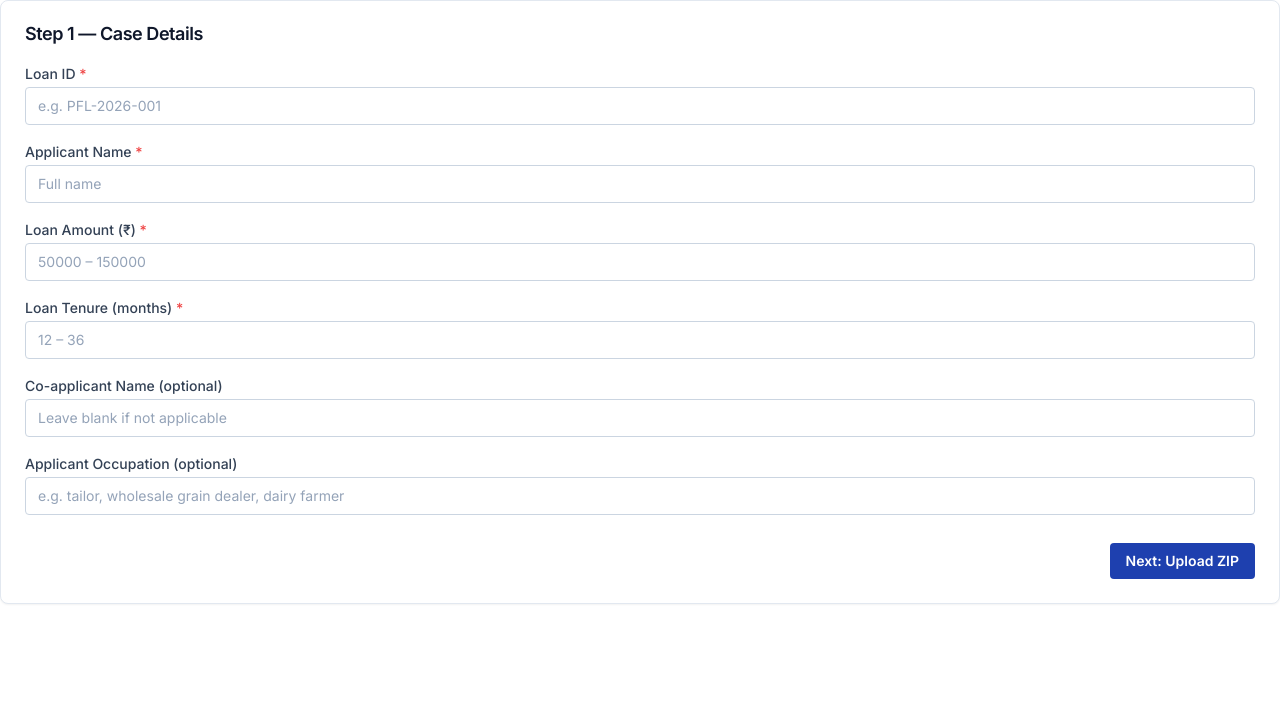
Step1Details › shows validation error for tenure above 36
Step 1. Type "PFL-001" into the field labelled "Loan ID *" → (640, 106), box [25,87,1255,125]
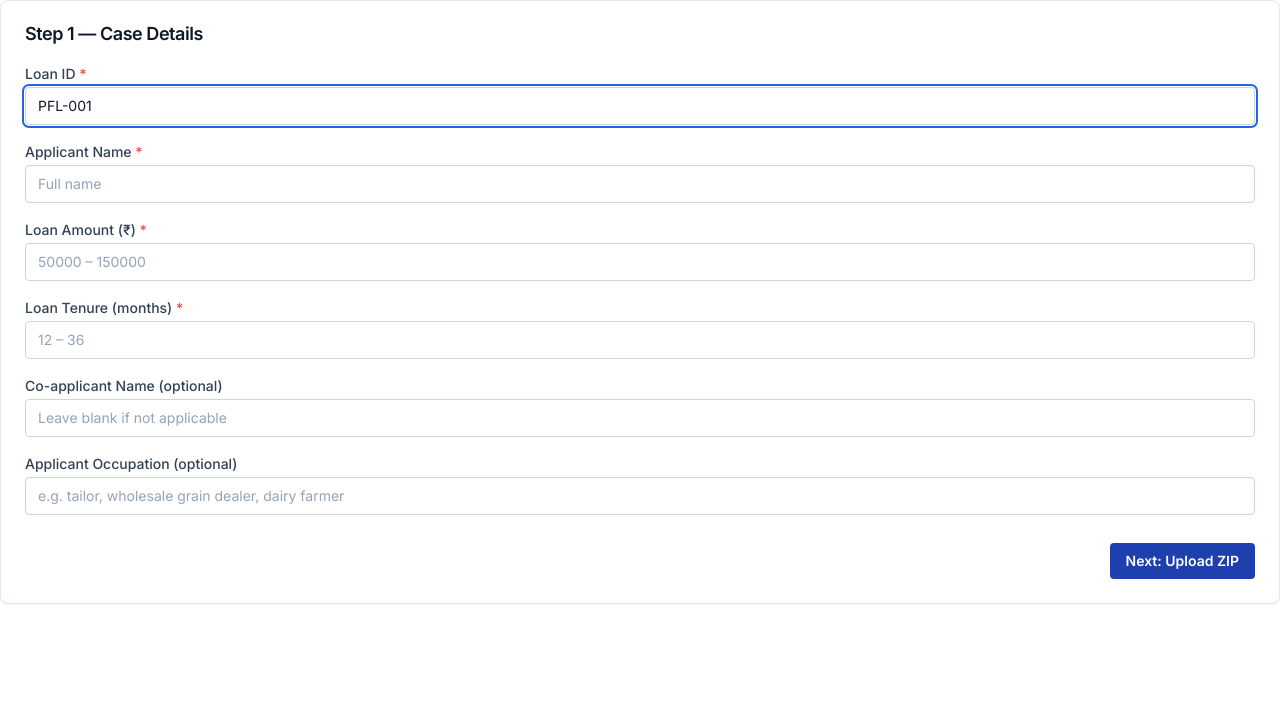
Step 2. Type "Alice Smith" into the field labelled "Applicant Name *" → (640, 184), box [25,165,1255,203]
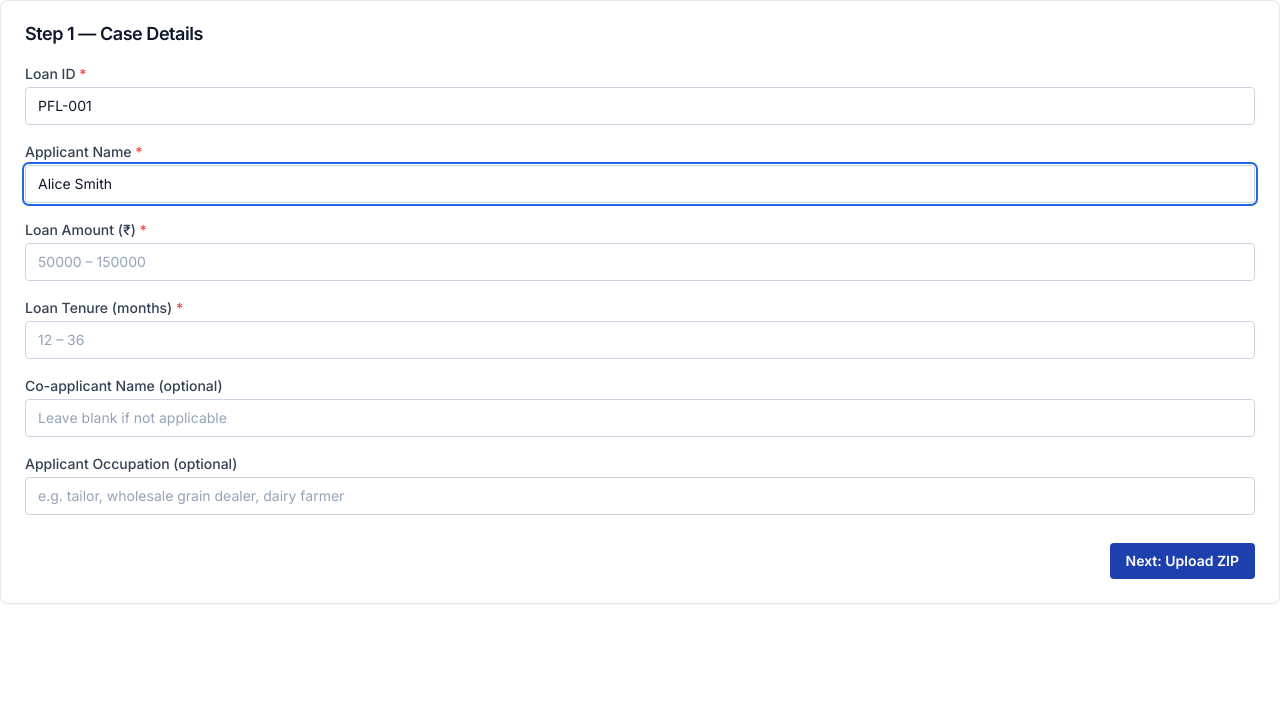
Step 3. Type "100000" into the number field labelled "Loan Amount (₹) *" → (640, 262), box [25,243,1255,281]
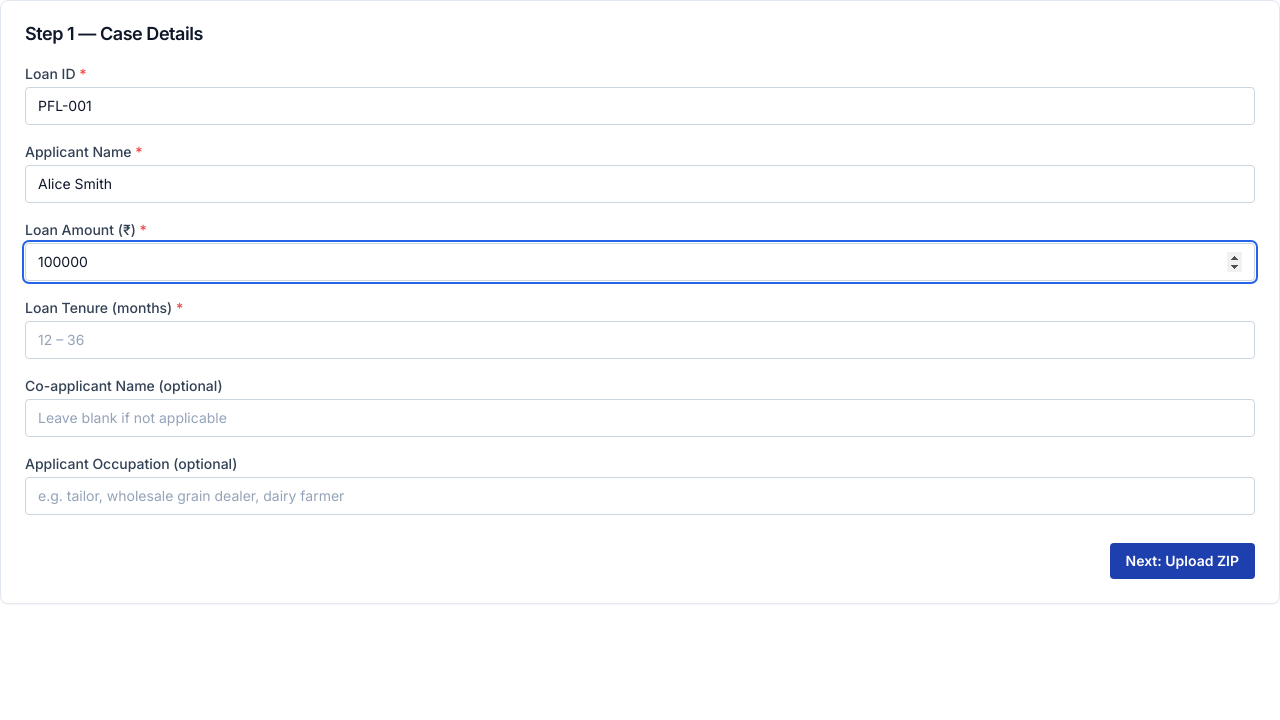
Step 4. Type "48" into the number field labelled "Loan Tenure (months) *" → (640, 340), box [25,321,1255,359]
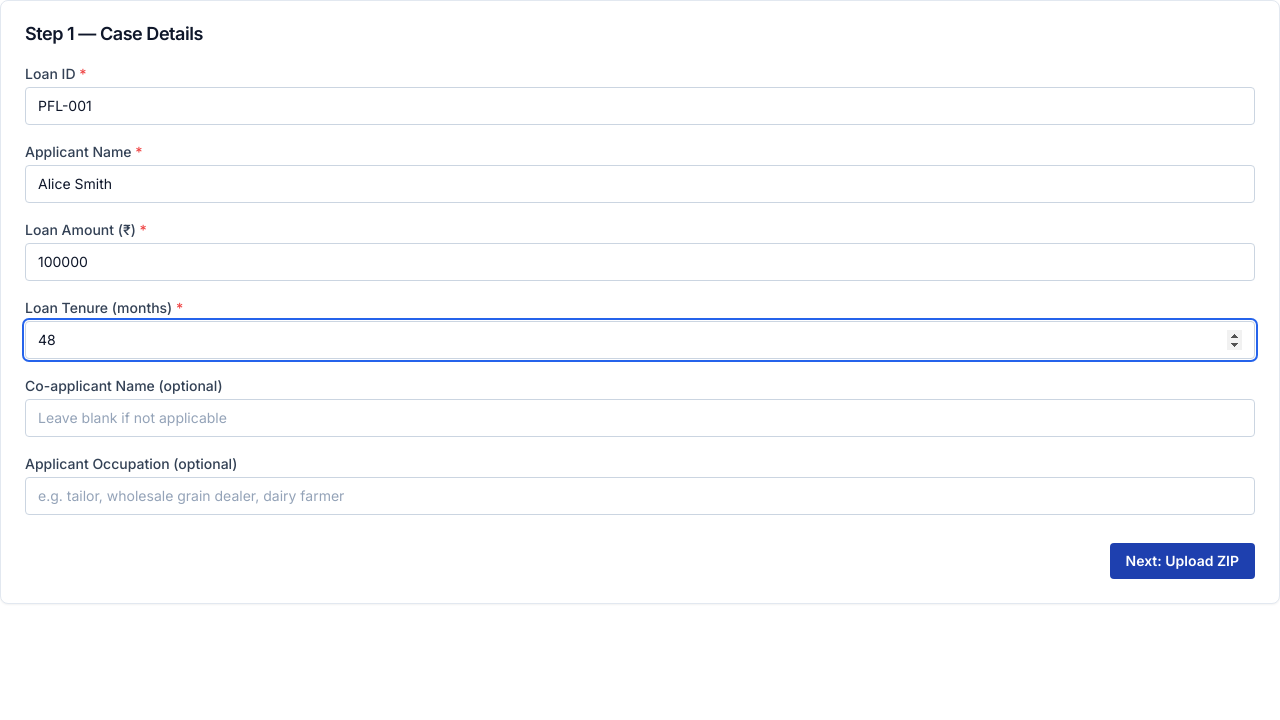
Step 5. Click the button "Next: Upload ZIP" → (1182, 561), box [1110,543,1255,579]
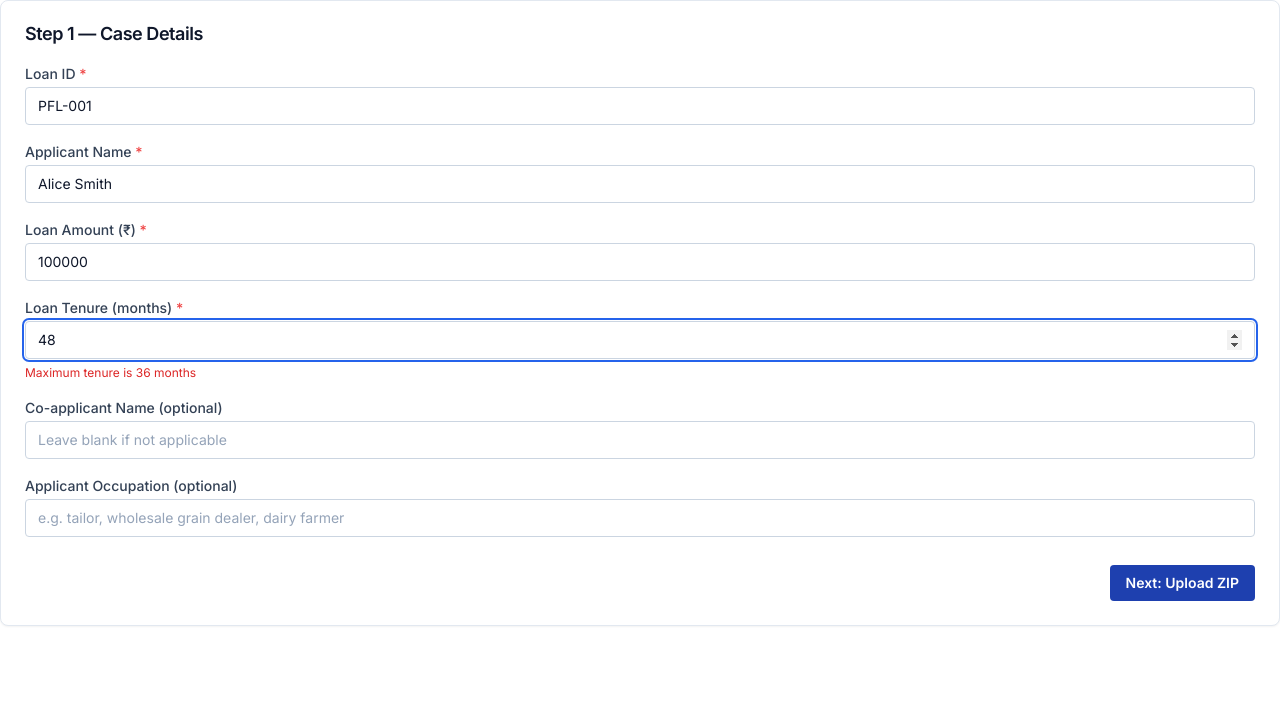
Check: the text "Maximum tenure is 36 months" is shown, box [25,365,196,380]
